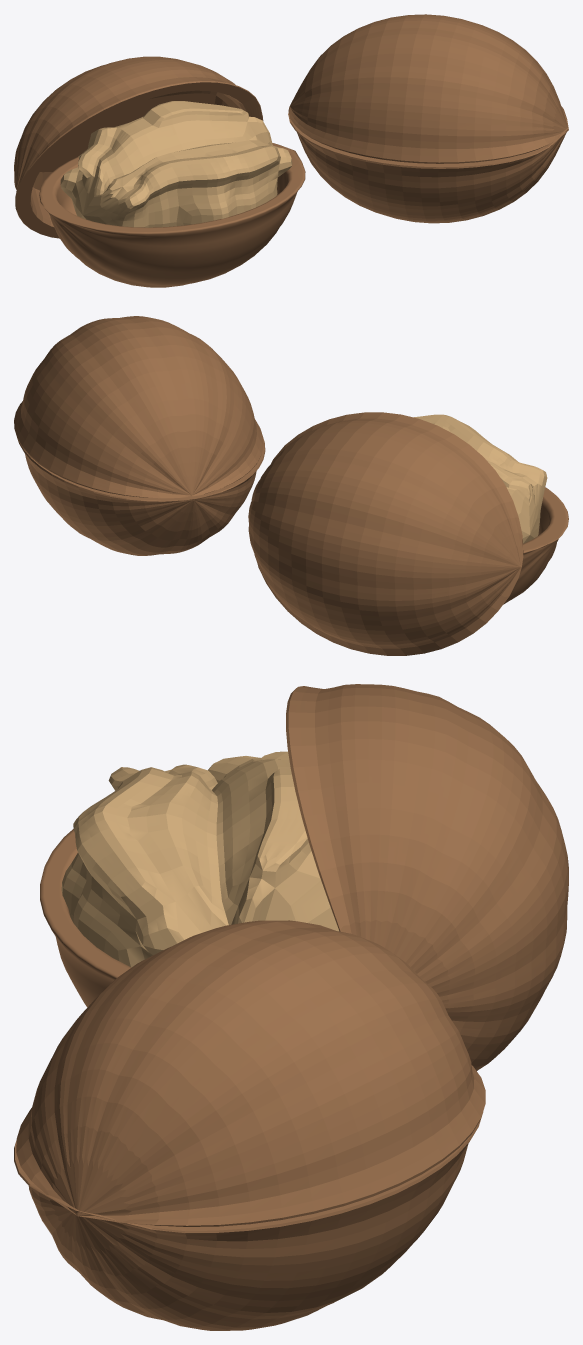
File: 6b536dab-5f64-4faf-ad43-a55cb3ed5c5a.glb
The picture shows the model from 3 angles, top to bottom: view 1: azimuth 30°, elevation 25°; view 2: azimuth 150°, elevation 25°; view 3: azimuth 270°, elevation 25°; orthographic projection. The views are drawn at different scales.
Visible parts, largest first — view 1: Sphere001; view 2: Sphere001; view 3: Sphere001.
Boxes of the visible parts, left/top/right/bottom form: Sphere001: left=14, top=14, right=568, bottom=287; Sphere001: left=14, top=316, right=568, bottom=655; Sphere001: left=14, top=684, right=568, bottom=1330.
Bounding box in the file's own units: 39.04 × 14.29 × 20.
